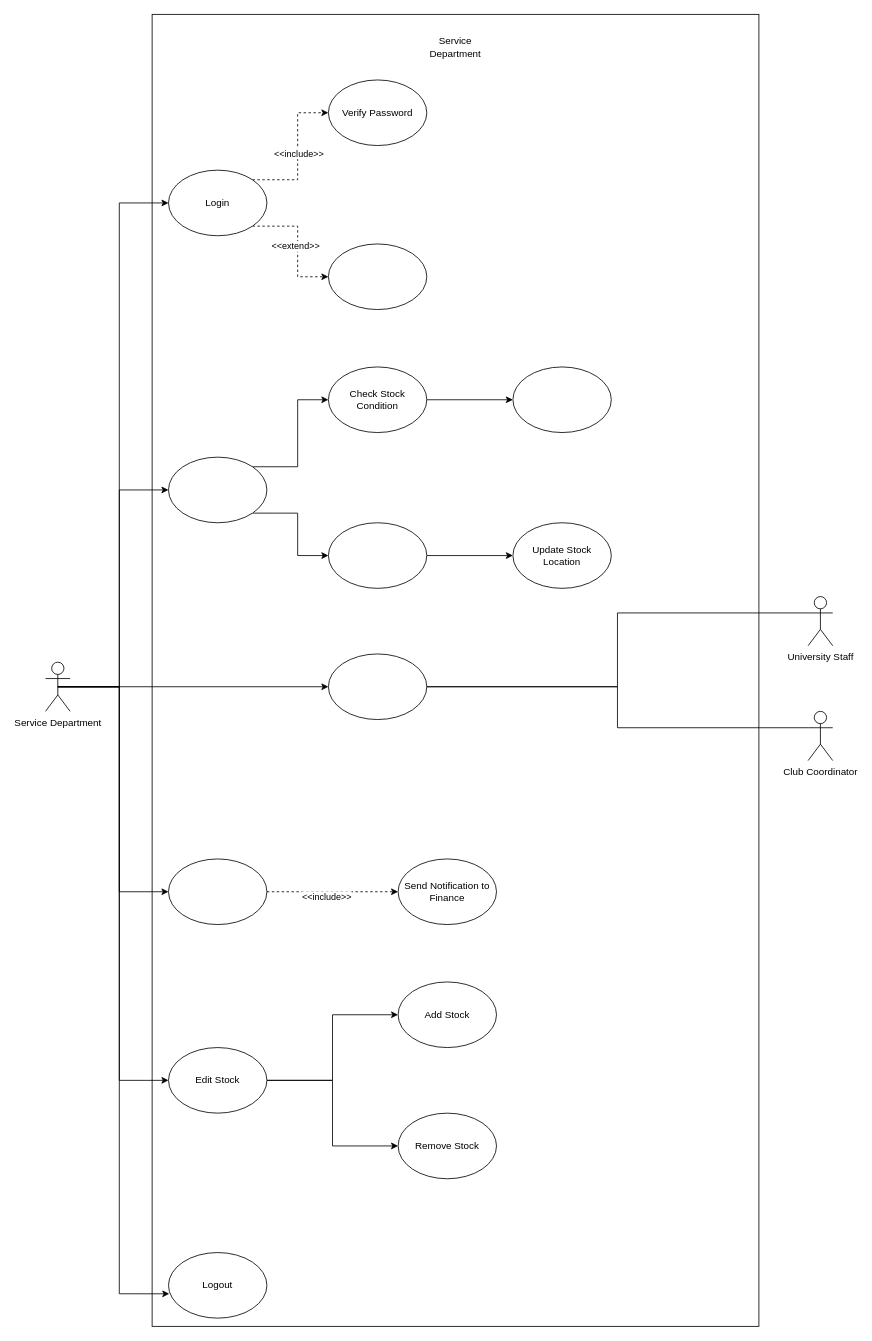
Image size: 872x1341. Some labels were removed from this diagram. Each missing label, with the box of its shape:
Check Stock: (168, 456, 267, 523)
Check Stock Location: (328, 522, 427, 588)
Display Login Error: (328, 243, 427, 310)
Request Material: (168, 858, 267, 925)
Review Requests: (328, 653, 427, 720)
Update Stock Condition: (512, 366, 611, 433)
